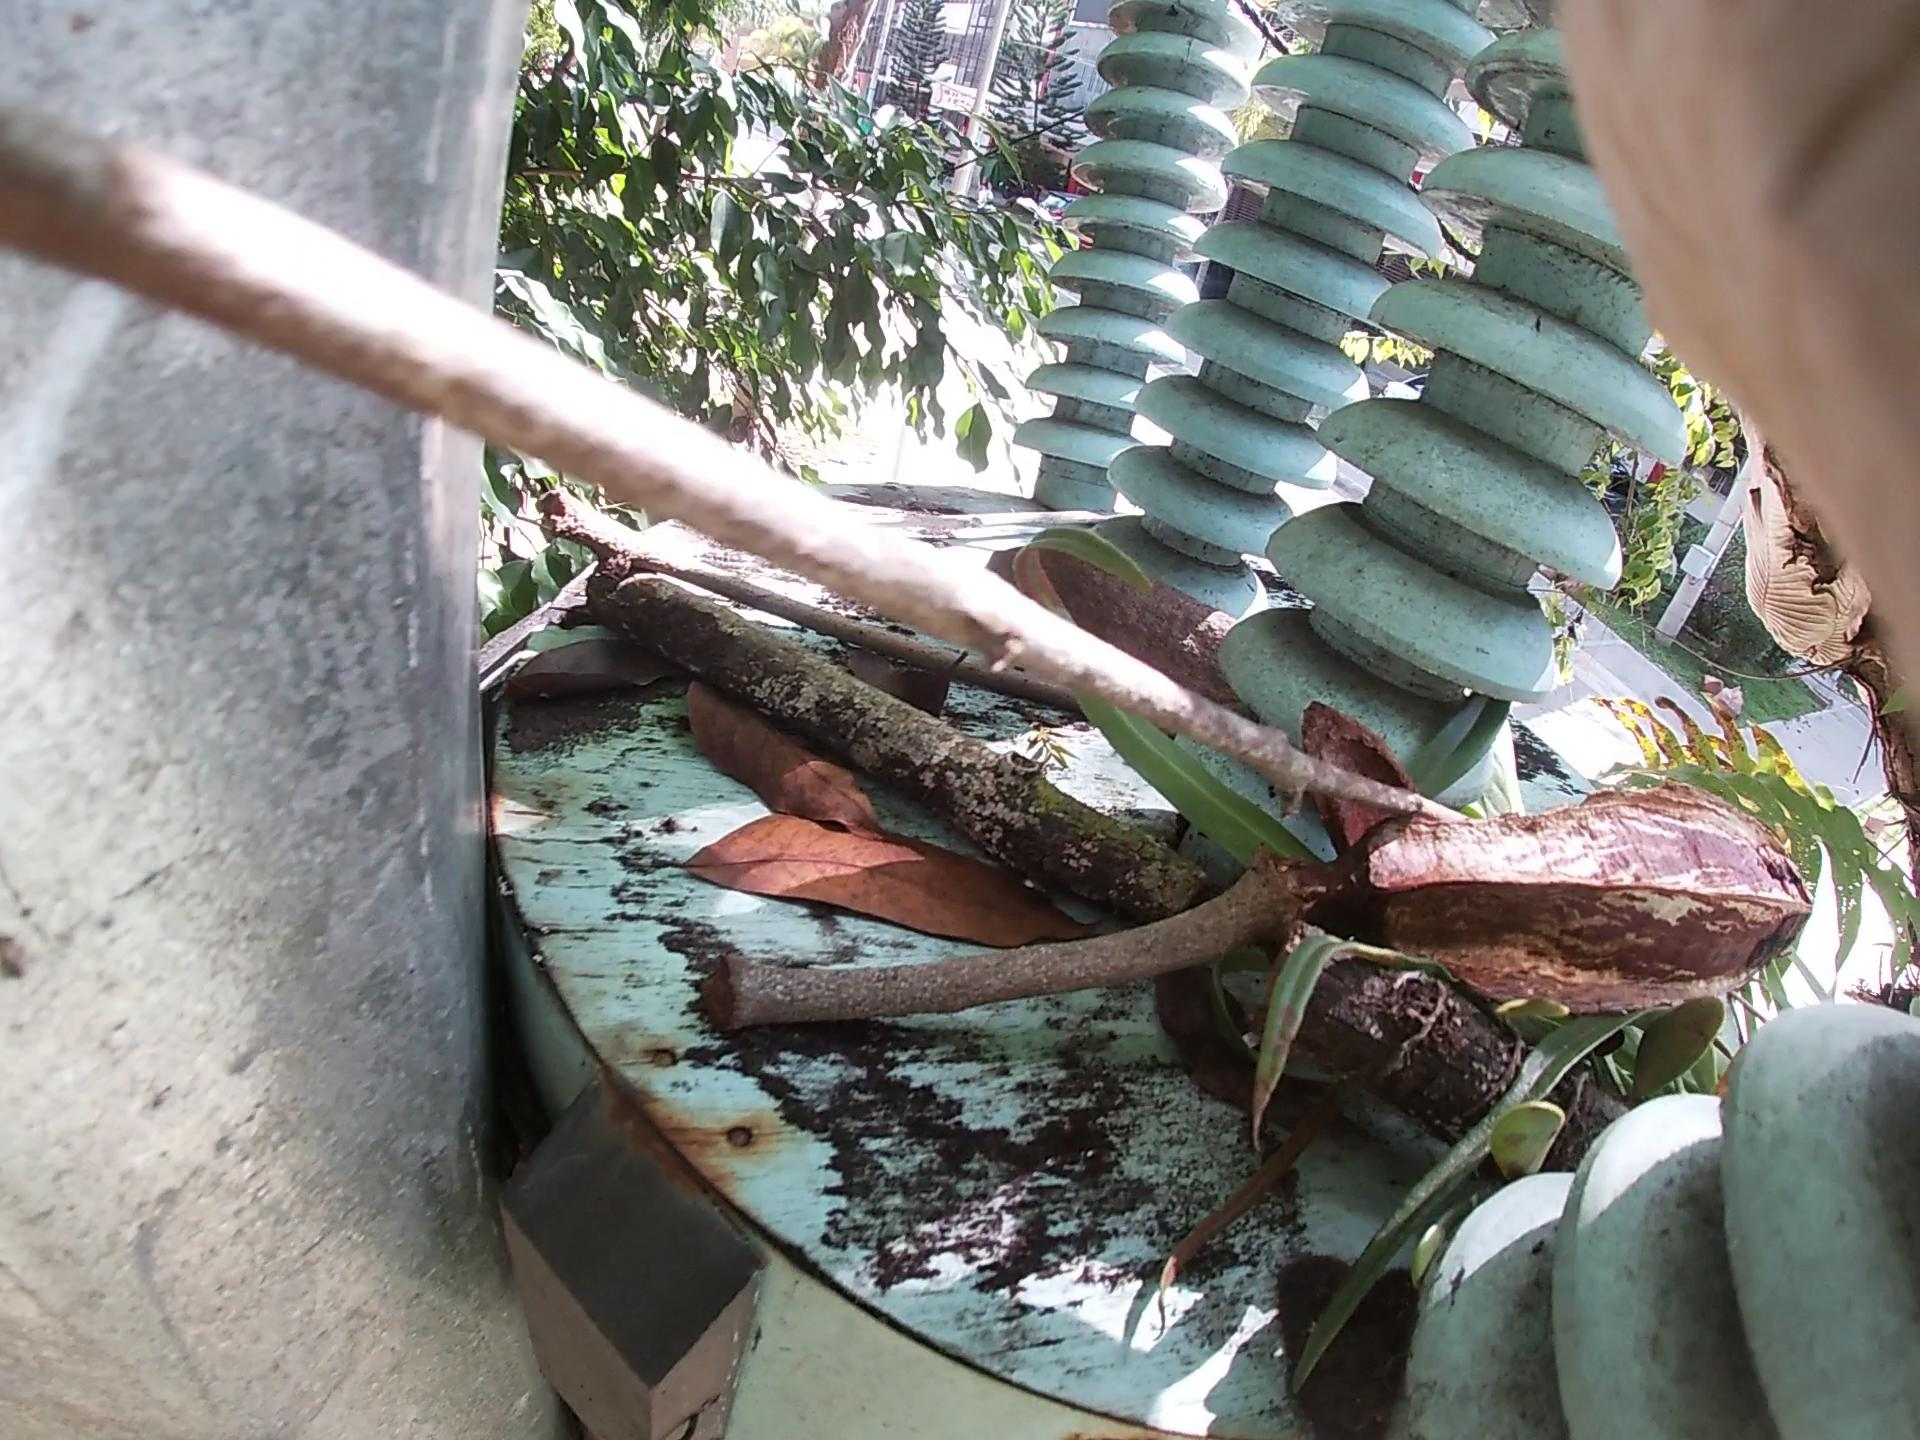branch with leaves: (612, 564, 1640, 1274)
leaf: (562, 617, 931, 930)
mahogany fruit: (1321, 764, 1801, 1038), (1023, 514, 1379, 700), (1265, 669, 1448, 867)
tree branch: (5, 42, 1339, 812), (544, 502, 1081, 690), (711, 902, 1294, 1013)
